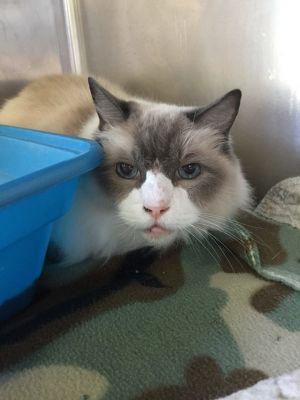ragdoll: (74, 69, 255, 267)
